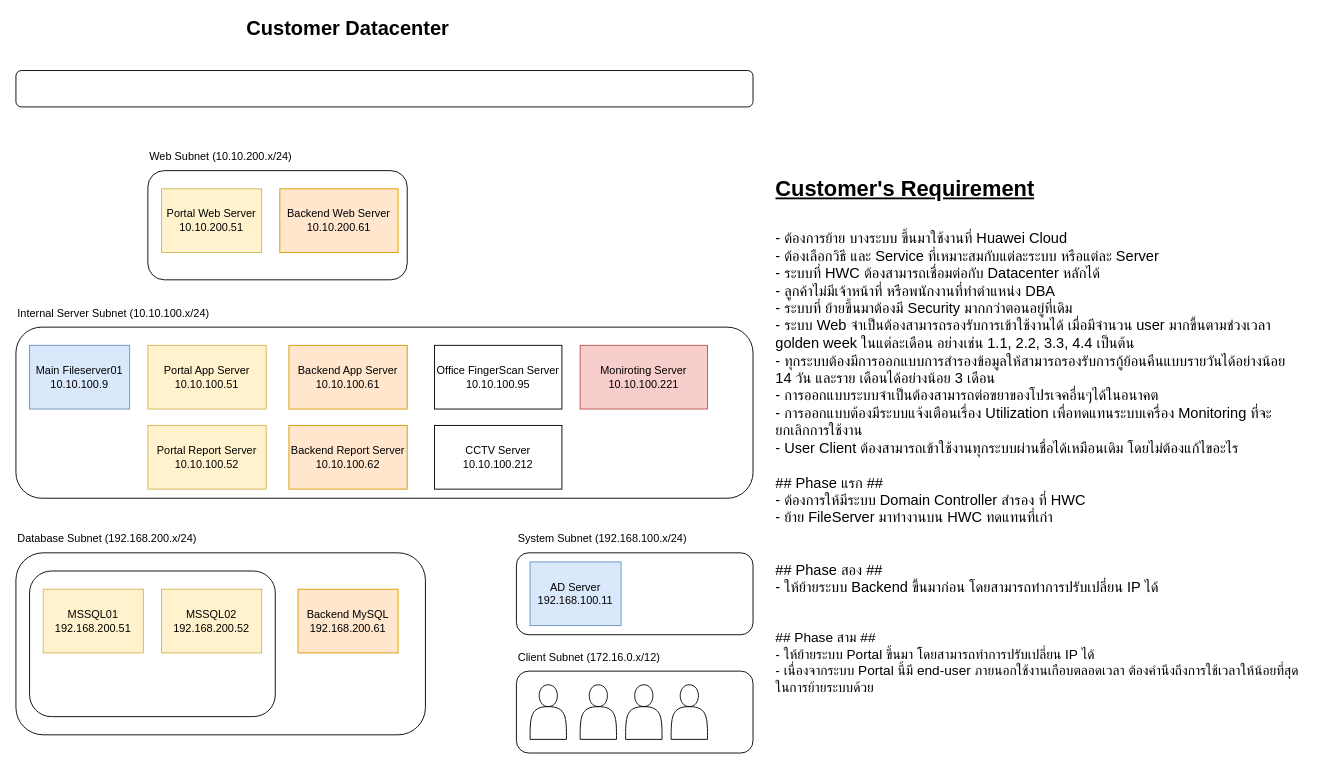
Image size: 1324x769. Some labels were removed from this diagram. Here are the shapes that lost their labels. From the top down, the box of each, then its label:
(15, 70, 753, 107): Network / Firewall
(29, 570, 275, 717): MSSQL Cluster 192.168.200.50
